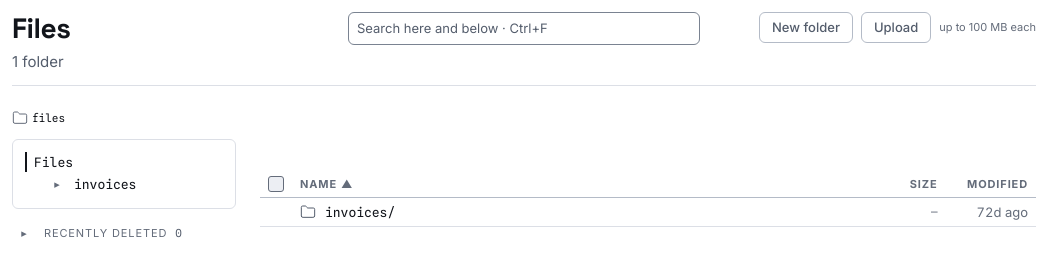
Files — opening in the default app › opens a double-clicked file with its app, by its full path, and downloads nothing
Step 1. Click the button "invoices/" → (360, 212), box [324,202,396,222]
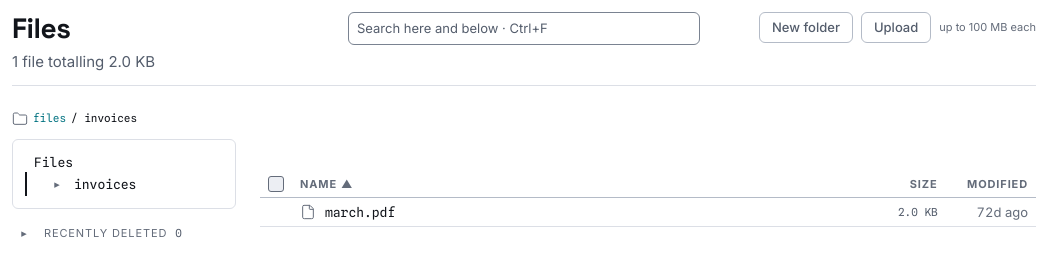
Step 2. Double-click the button "march.pdf" → (360, 212), box [324,202,396,222]
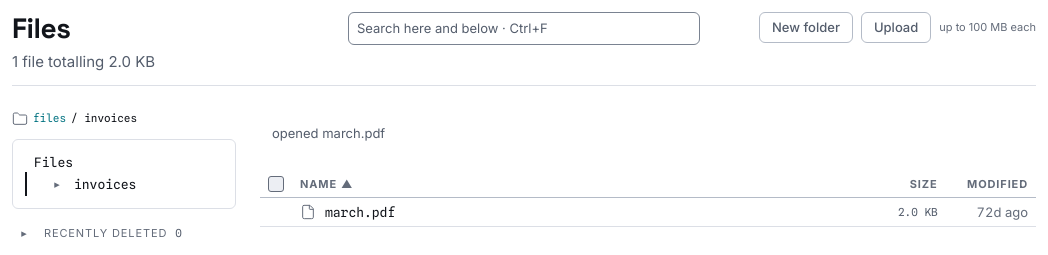
Now the text "opened march.pdf" is shown, box [272,125,385,141]
